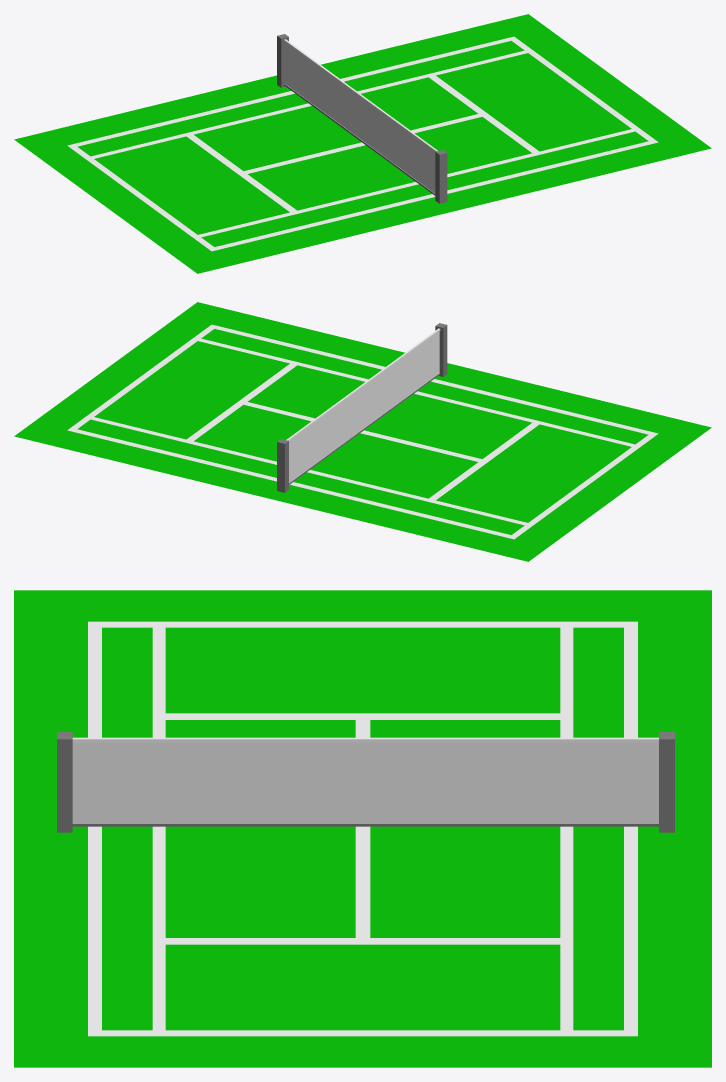
Rendered from GreenTennisCourt.gltf.
3 renders of one model, top to bottom at view 1: azimuth 30°, elevation 25°; view 2: azimuth 150°, elevation 25°; view 3: azimuth 270°, elevation 25°, orthographic. The views are drawn at different scales.
Parts seen in each view (by area): view 1: Mesh1 Group1 Tennis1 Model, Mesh10 Tennis1 Model, Mesh11 Tennis1 Model; view 2: Mesh1 Group1 Tennis1 Model, Mesh10 Tennis1 Model, Mesh11 Tennis1 Model; view 3: Mesh1 Group1 Tennis1 Model, Mesh10 Tennis1 Model, Mesh11 Tennis1 Model.
Boxes of the visible parts, x1,y1,x2,y2 form: Mesh1 Group1 Tennis1 Model: (14, 14, 711, 273); Mesh10 Tennis1 Model: (284, 39, 447, 203); Mesh11 Tennis1 Model: (277, 34, 288, 87); Mesh1 Group1 Tennis1 Model: (14, 302, 711, 561); Mesh10 Tennis1 Model: (286, 323, 447, 484); Mesh11 Tennis1 Model: (277, 439, 288, 492); Mesh1 Group1 Tennis1 Model: (14, 590, 711, 1067); Mesh10 Tennis1 Model: (57, 732, 658, 832); Mesh11 Tennis1 Model: (659, 732, 674, 832).
Bounding box in the file's own units: 395 × 36 × 244.
